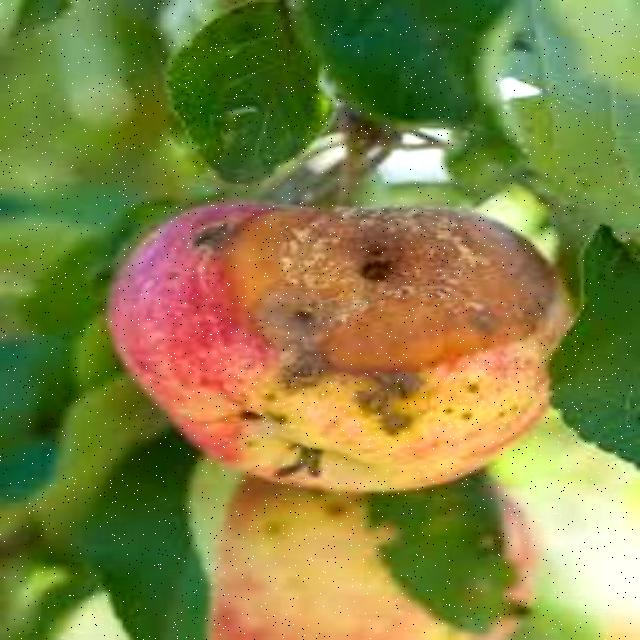ROT: (96, 173, 624, 516)
